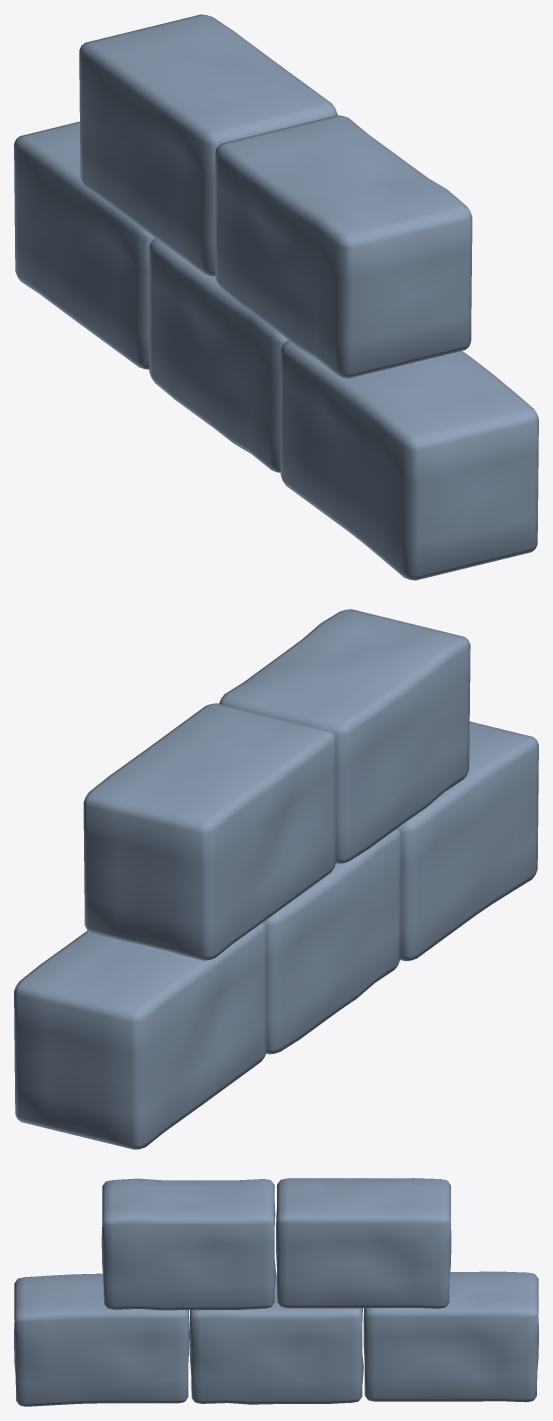
File: bricks-1.dae
3 renders of one model, top to bottom at view 1: azimuth 30°, elevation 25°; view 2: azimuth 150°, elevation 25°; view 3: azimuth 270°, elevation 25°, orthographic. The views are drawn at different scales.
Visible parts, largest first — view 1: Cube.002, Cube, Cube.004, Cube.003, Cube.001; view 2: Cube.004, Cube.003, Cube.002, Cube, Cube.001; view 3: Cube.004, Cube.002, Cube, Cube.003, Cube.001.
Part boxes in pixels (x1,y1,x2,y2): Cube.002: [215, 115, 472, 378]; Cube: [280, 340, 538, 580]; Cube.004: [79, 14, 337, 276]; Cube.003: [14, 121, 154, 369]; Cube.001: [149, 238, 288, 472]; Cube.004: [83, 703, 336, 960]; Cube.003: [14, 922, 266, 1149]; Cube.002: [219, 609, 470, 863]; Cube: [397, 721, 538, 961]; Cube.001: [264, 828, 401, 1054]; Cube.004: [276, 1178, 451, 1308]; Cube.002: [101, 1178, 276, 1310]; Cube: [14, 1273, 189, 1406]; Cube.003: [363, 1271, 538, 1402]; Cube.001: [189, 1274, 363, 1404].
Size of the model in its own units: 0.4969 by 2.45 by 1.
